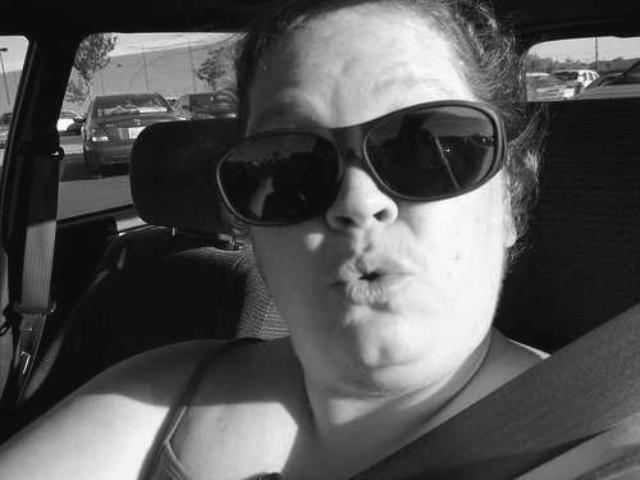Seatbelt: (350, 295, 640, 479)
